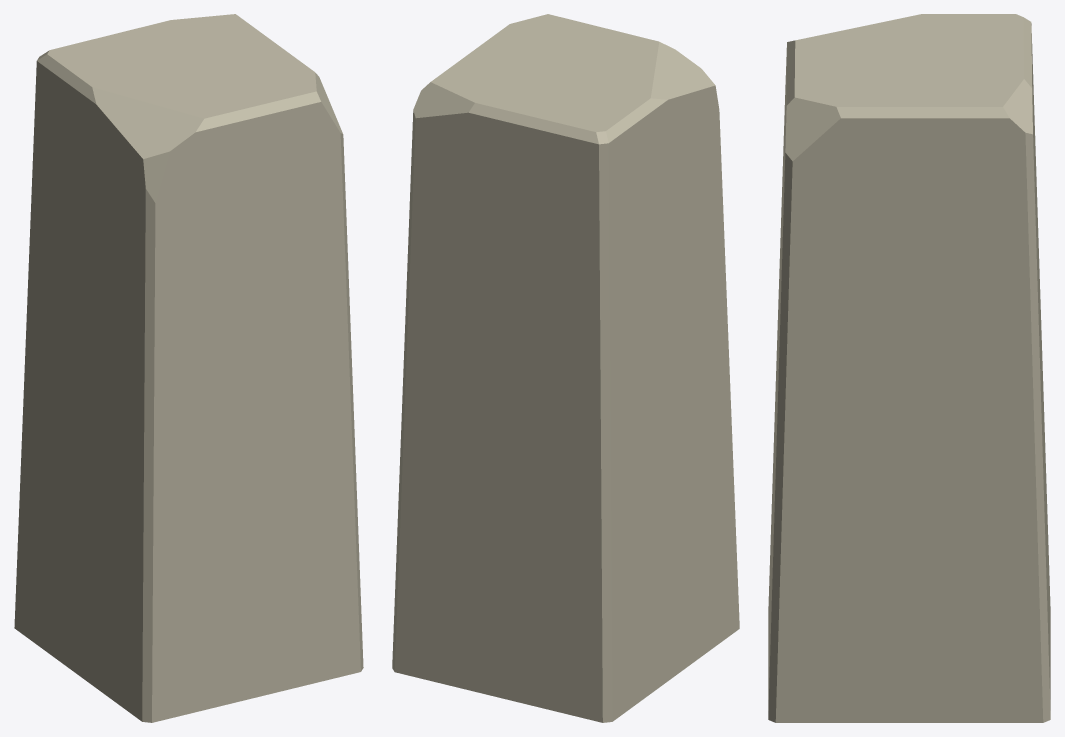
Rendered from Rock_Square_l_02.fbx.
3 renders of one model, left to right at view 1: azimuth 30°, elevation 25°; view 2: azimuth 150°, elevation 25°; view 3: azimuth 270°, elevation 25°, orthographic. The views are drawn at different scales.
Parts seen in each view (by area): view 1: Rock_Square_l_02; view 2: Rock_Square_l_02; view 3: Rock_Square_l_02.
Part boxes in pixels (x1=…): Rock_Square_l_02: x1=14, y1=14, x2=363, y2=722; Rock_Square_l_02: x1=392, y1=14, x2=739, y2=722; Rock_Square_l_02: x1=768, y1=14, x2=1050, y2=722.
Size of the model in its own units: 137 by 344 by 145.
